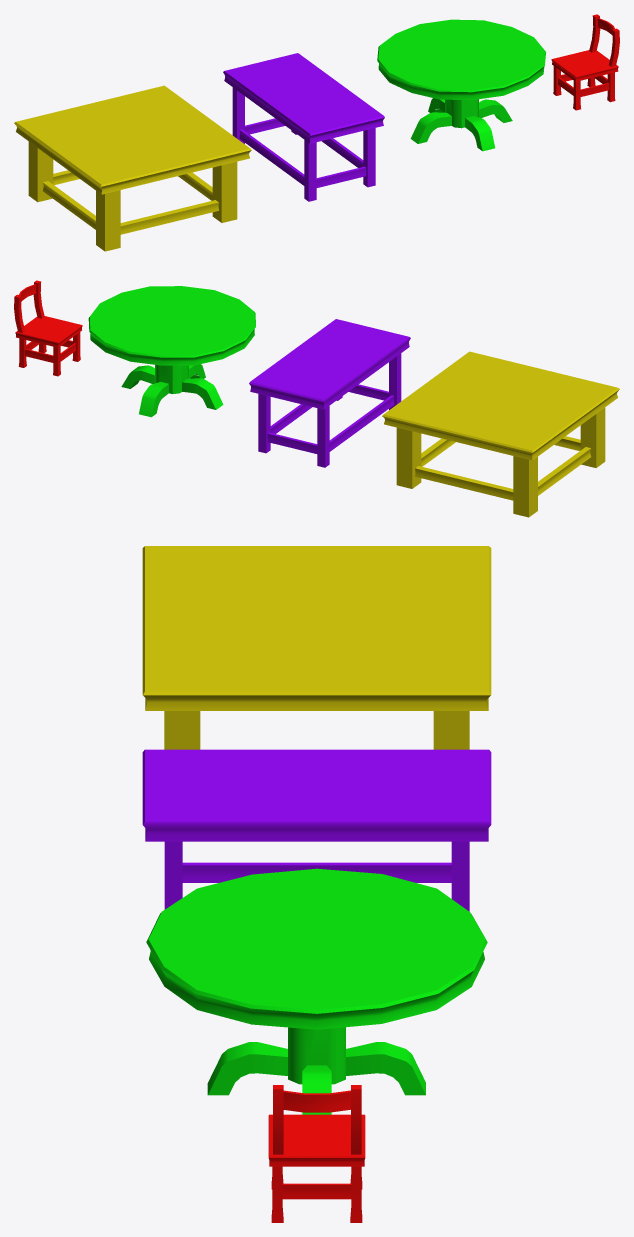
Rendered from ForsetiMobilierForTexturing.FBX.
3 views of the same model, one above another, from view 1: azimuth 30°, elevation 25°; view 2: azimuth 150°, elevation 25°; view 3: azimuth 270°, elevation 25° (orthographic). The views are drawn at different scales.
Parts seen in each view (by area): view 1: table_8, table_6, table_4, chair; view 2: table_8, table_6, table_4, chair; view 3: table_8, table_6, table_4, chair.
Part boxes in pixels (left/top/right/bottom): table_8: left=14, top=85, right=251, bottom=251; table_6: left=377, top=19, right=545, bottom=151; table_4: left=223, top=53, right=384, bottom=201; chair: left=551, top=14, right=619, bottom=110; table_8: left=382, top=351, right=619, bottom=517; table_6: left=88, top=286, right=255, bottom=417; table_4: left=249, top=319, right=410, bottom=467; chair: left=14, top=280, right=82, bottom=376; table_8: left=142, top=546, right=491, bottom=749; table_6: left=146, top=868, right=487, bottom=1114; table_4: left=142, top=749, right=491, bottom=911; chair: left=268, top=1085, right=365, bottom=1222.
Size of the model in its own units: 580 by 158 by 75.
